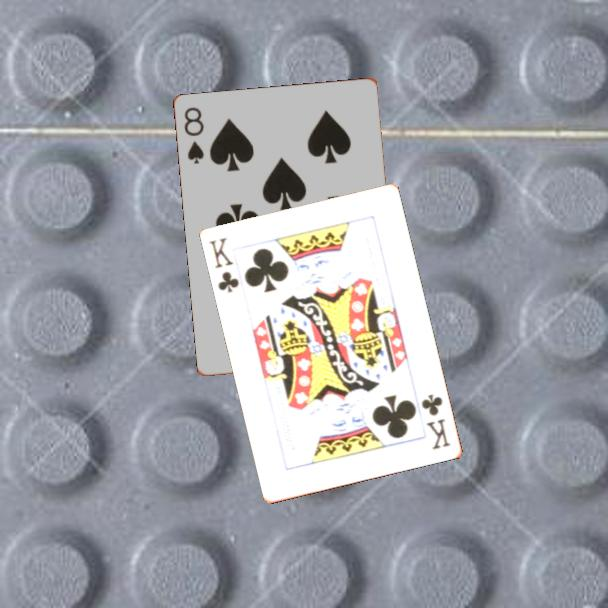c13: (418, 391, 454, 453), (206, 234, 242, 296)
s08: (181, 104, 207, 167)
